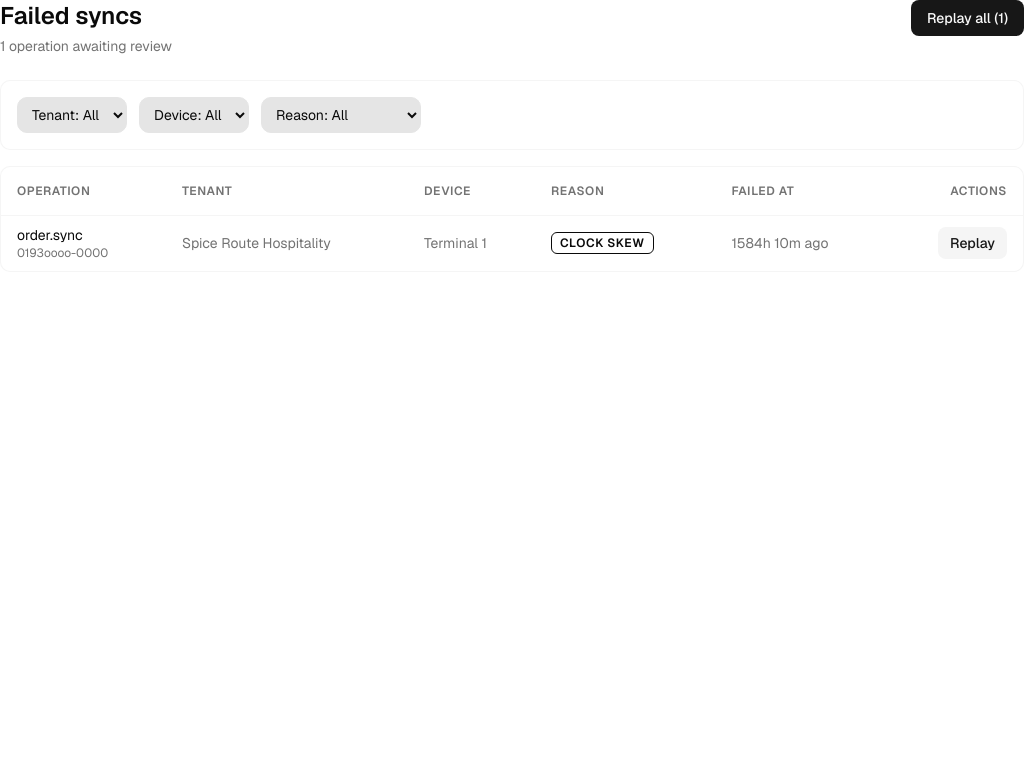
Test case: DlqTable › replays a single op and shows the inline result - never a silent toast
Step 1. Click the button "Replay" → (973, 243), box [938,227,1007,259]
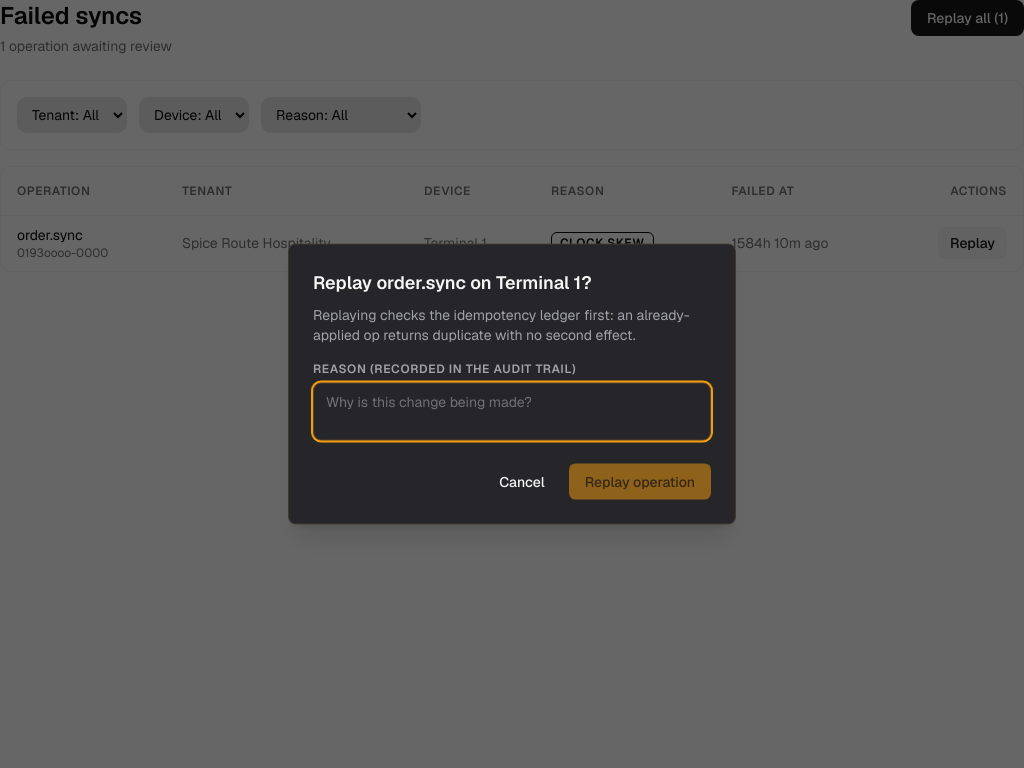
Result: the dialog with test id "confirm-dialog" shows "Replay" at [313,270,592,294]
Step 2. Type "Device clock corrected" into the text box with test id "confirm-reason" → (512, 412), box [313,382,711,440]
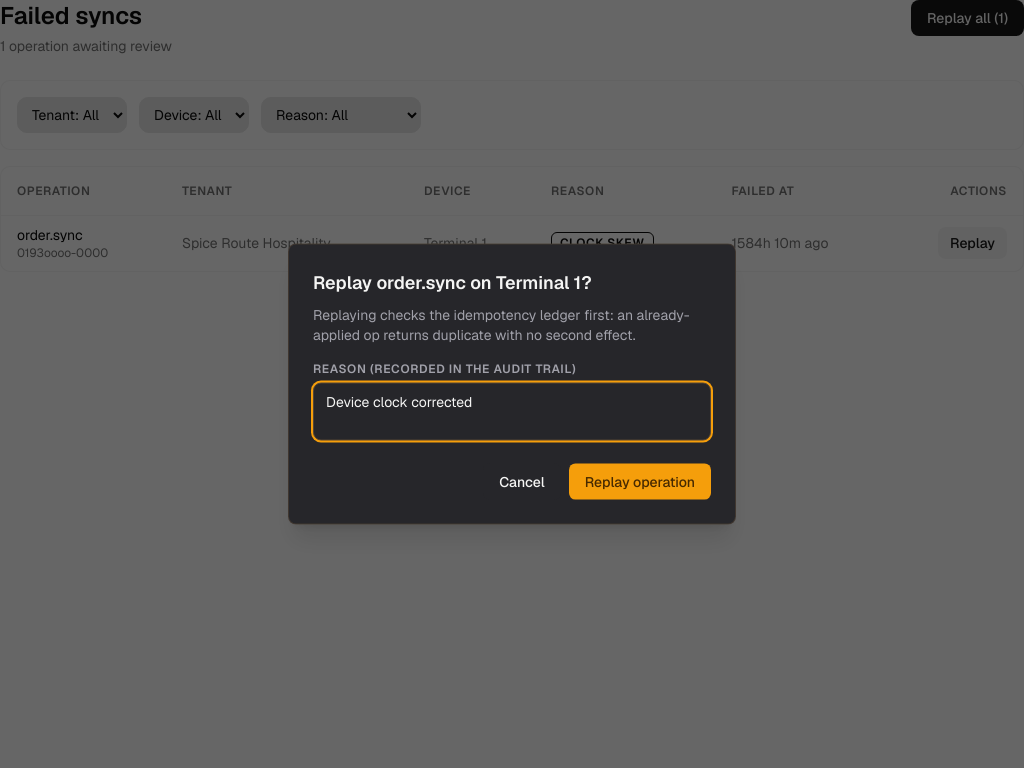
Step 3. Click the button with test id "confirm-submit" → (640, 482), box [569,464,711,500]
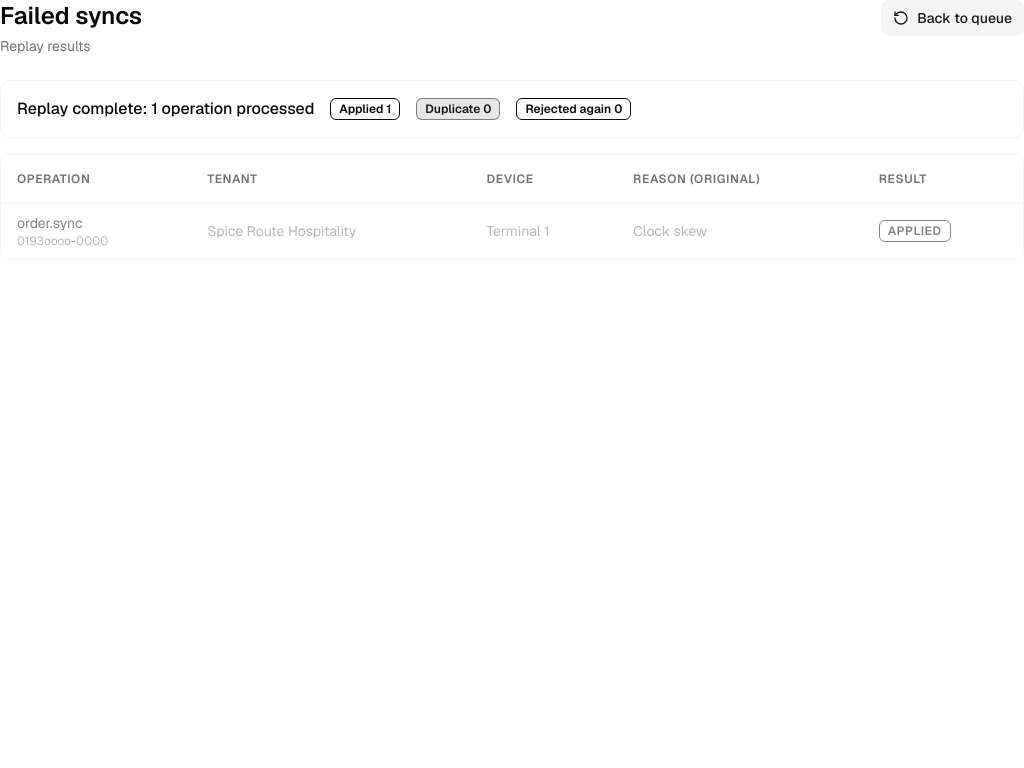
Result: the element with test id "dlq-results" shows "Applied" at [339,101,386,117]
Result: the element with test id "dlq-results-summary" shows "1" at [151,98,158,119]
